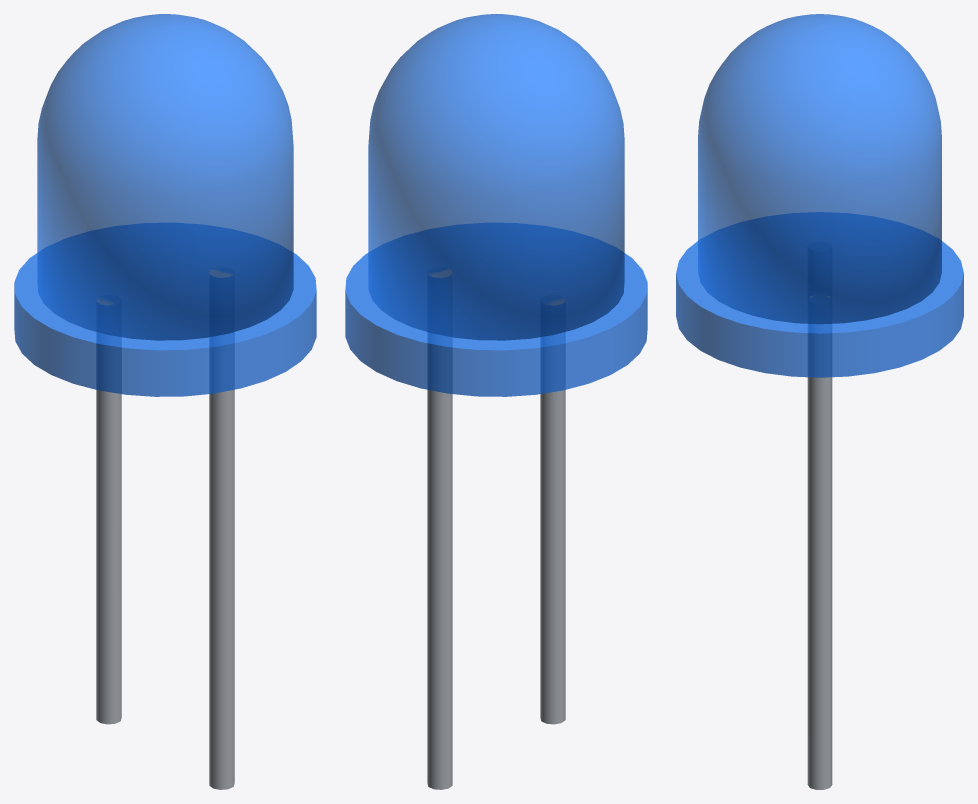
The model's file is led-5mm-blue.glb.
The picture shows the model from 3 angles, left to right: view 1: azimuth 30°, elevation 25°; view 2: azimuth 150°, elevation 25°; view 3: azimuth 270°, elevation 25°; orthographic projection. The views are drawn at different scales.
Visible parts, largest first — view 1: led_body, led_flange, anode_lead, cathode_lead; view 2: led_body, led_flange, anode_lead, cathode_lead; view 3: led_body, led_flange, anode_lead.
Part boxes in pixels (bbox=[...]): led_body: bbox=[37, 14, 293, 340]; led_flange: bbox=[14, 223, 316, 396]; anode_lead: bbox=[209, 269, 234, 789]; cathode_lead: bbox=[96, 298, 121, 724]; led_body: bbox=[368, 14, 624, 340]; led_flange: bbox=[345, 223, 647, 396]; anode_lead: bbox=[427, 269, 452, 789]; cathode_lead: bbox=[540, 298, 565, 724]; led_body: bbox=[698, 14, 941, 324]; led_flange: bbox=[676, 212, 963, 377]; anode_lead: bbox=[807, 296, 832, 789].
Bounding box in the file's own units: 0.0059 × 0.0166 × 0.0059.
